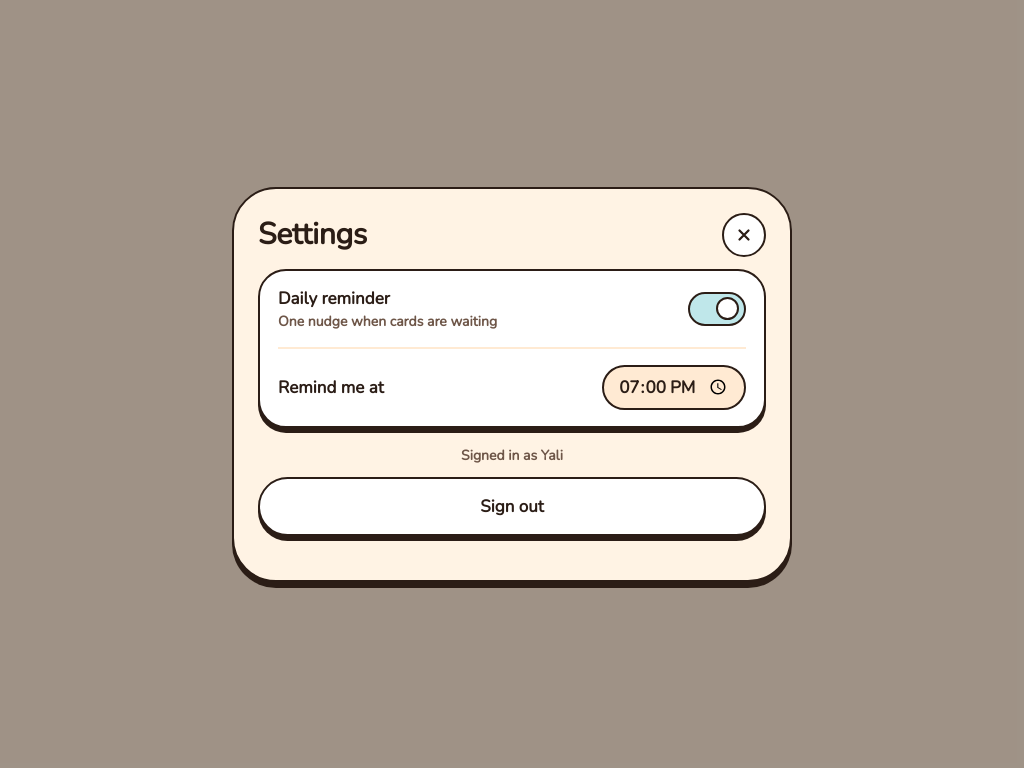
Scenario: SettingsSheet (canvas N13) › a new time is saved in 15-minute steps
This screenshot has width=1024, height=768.
Replace the text in the time field labelled "Remind me at" with "07:08" at {"x": 674, "y": 387}, box [602,364,746,410]
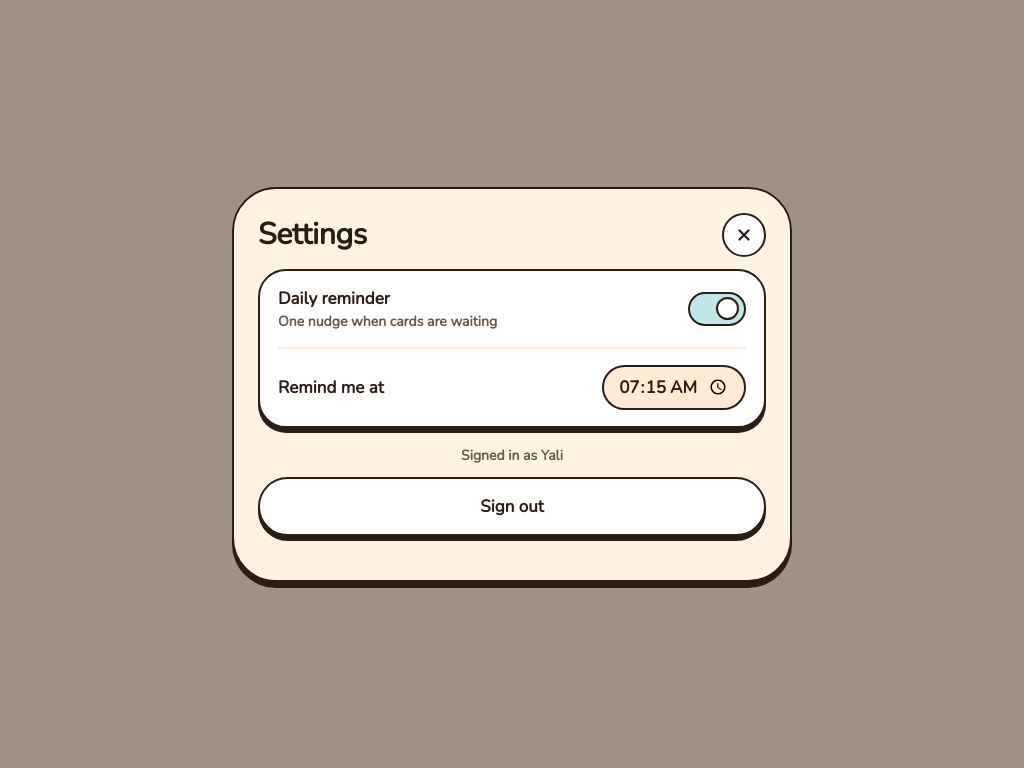
Check: the time field labelled "Remind me at" holds "07:15", box [602,364,746,410]
